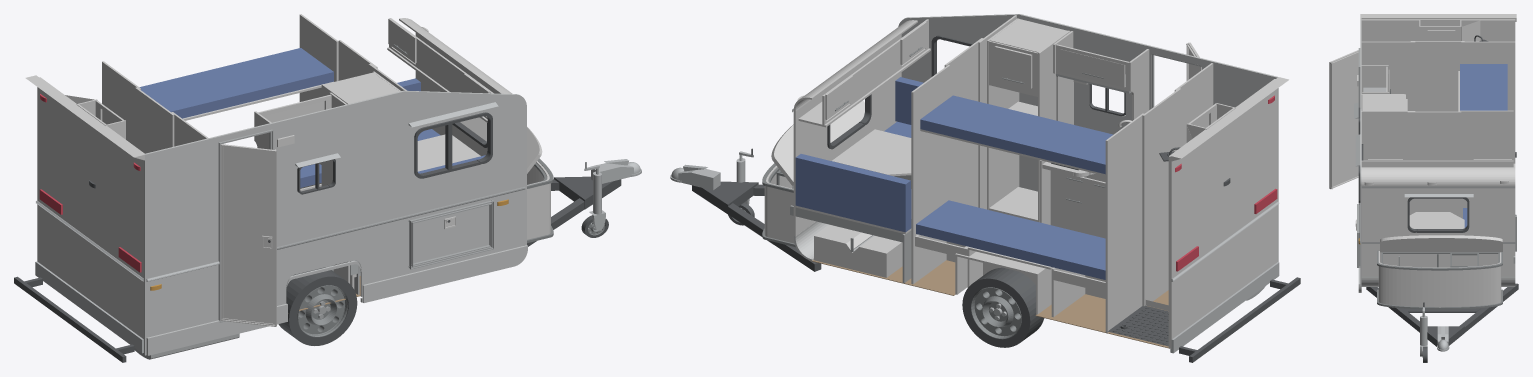
Rendered from CORTE B.glb.
The picture shows the model from 3 angles, left to right: view 1: azimuth 30°, elevation 25°; view 2: azimuth 150°, elevation 25°; view 3: azimuth 270°, elevation 25°; orthographic projection. The views are drawn at different scales.
Visible parts, largest first — view 1: Mesh_Mesh_head_geo.001_lambert2SG.001; view 2: Mesh_Mesh_head_geo.001_lambert2SG.001; view 3: Mesh_Mesh_head_geo.001_lambert2SG.001.
Part boxes in pixels (x1=…): Mesh_Mesh_head_geo.001_lambert2SG.001: x1=14, y1=14, x2=641, y2=362; Mesh_Mesh_head_geo.001_lambert2SG.001: x1=670, y1=14, x2=1300, y2=362; Mesh_Mesh_head_geo.001_lambert2SG.001: x1=1329, y1=14, x2=1518, y2=362.
Bounding box in the file's own units: 0.312 × 0.122 × 0.1232.
